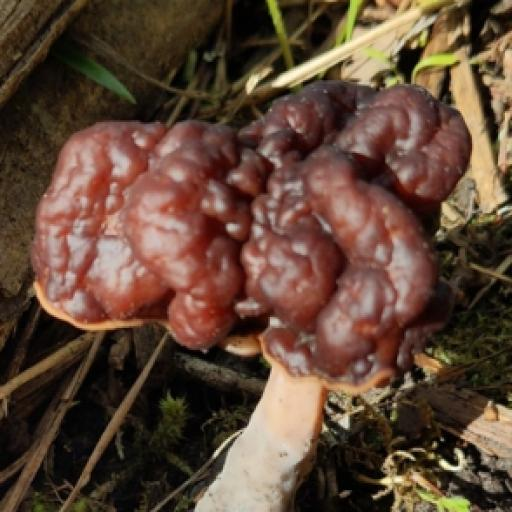mushroom: (32, 81, 471, 511)
